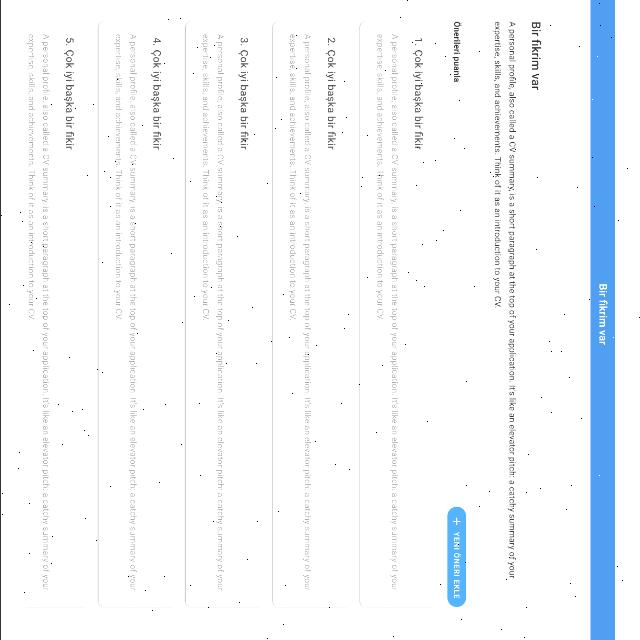QLabel: (25, 29, 53, 593), (110, 31, 138, 595), (490, 19, 518, 581), (199, 29, 225, 593), (374, 31, 400, 592), (288, 29, 312, 593), (324, 33, 338, 153), (238, 35, 250, 153), (63, 35, 75, 151), (150, 36, 162, 150), (412, 35, 423, 151), (529, 19, 543, 92), (596, 278, 610, 346), (451, 18, 464, 84), (452, 532, 460, 598)
VAppBar: (591, 0, 615, 640)
VBtn: (448, 507, 467, 607)
VCard: (271, 20, 353, 608), (184, 20, 266, 608), (358, 22, 440, 608), (97, 23, 177, 609), (26, 19, 90, 606)
VIcon: (452, 517, 461, 525)
